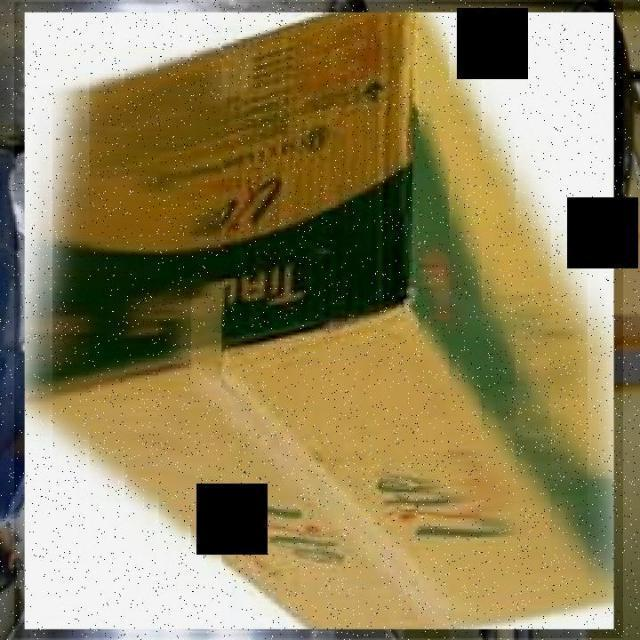box: (14, 1, 623, 638)
